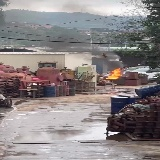fire: (106, 68, 121, 80)
